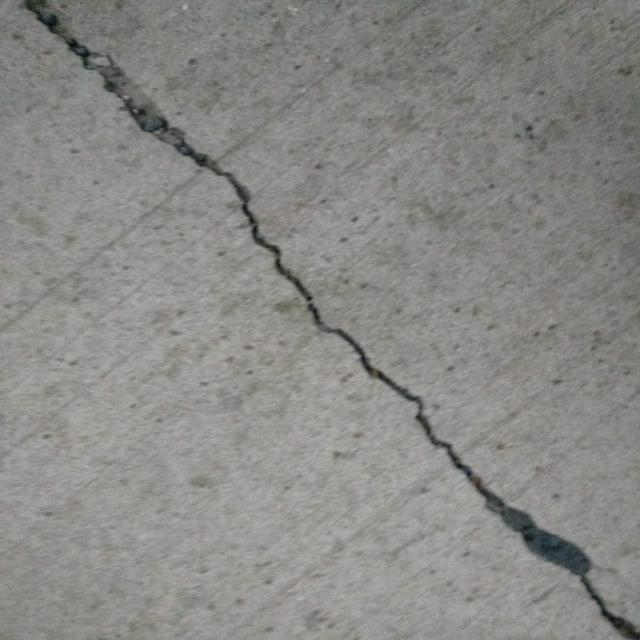cracks: (14, 0, 640, 607)
